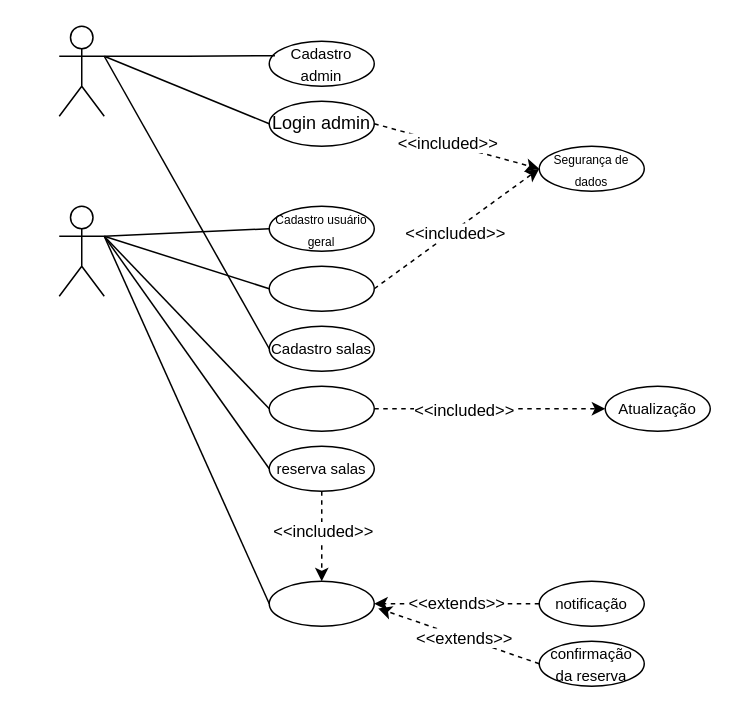
The diagram is 737 pixels wide and 713 high, and some of its shapes have lost their labels. Here are the shapes that lost their labels. From the top down, the centre of each, then its label:
[81,70]: Administrador
[81,250]: Usuário Geral
[321,288]: Login usuário geral
[321,408]: Consulta salas
[321,603]: pagamento da reserva
